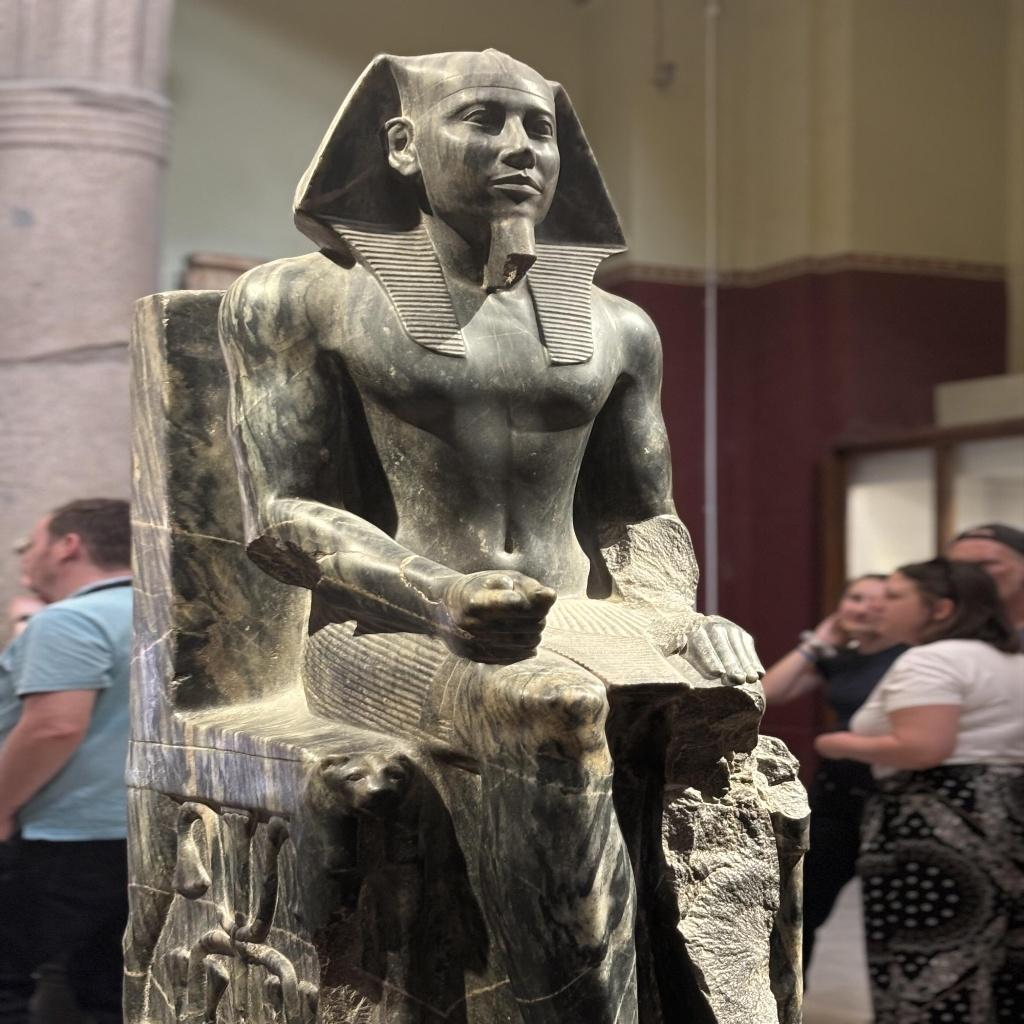Statue of Khafre: (122, 46, 811, 1020)
